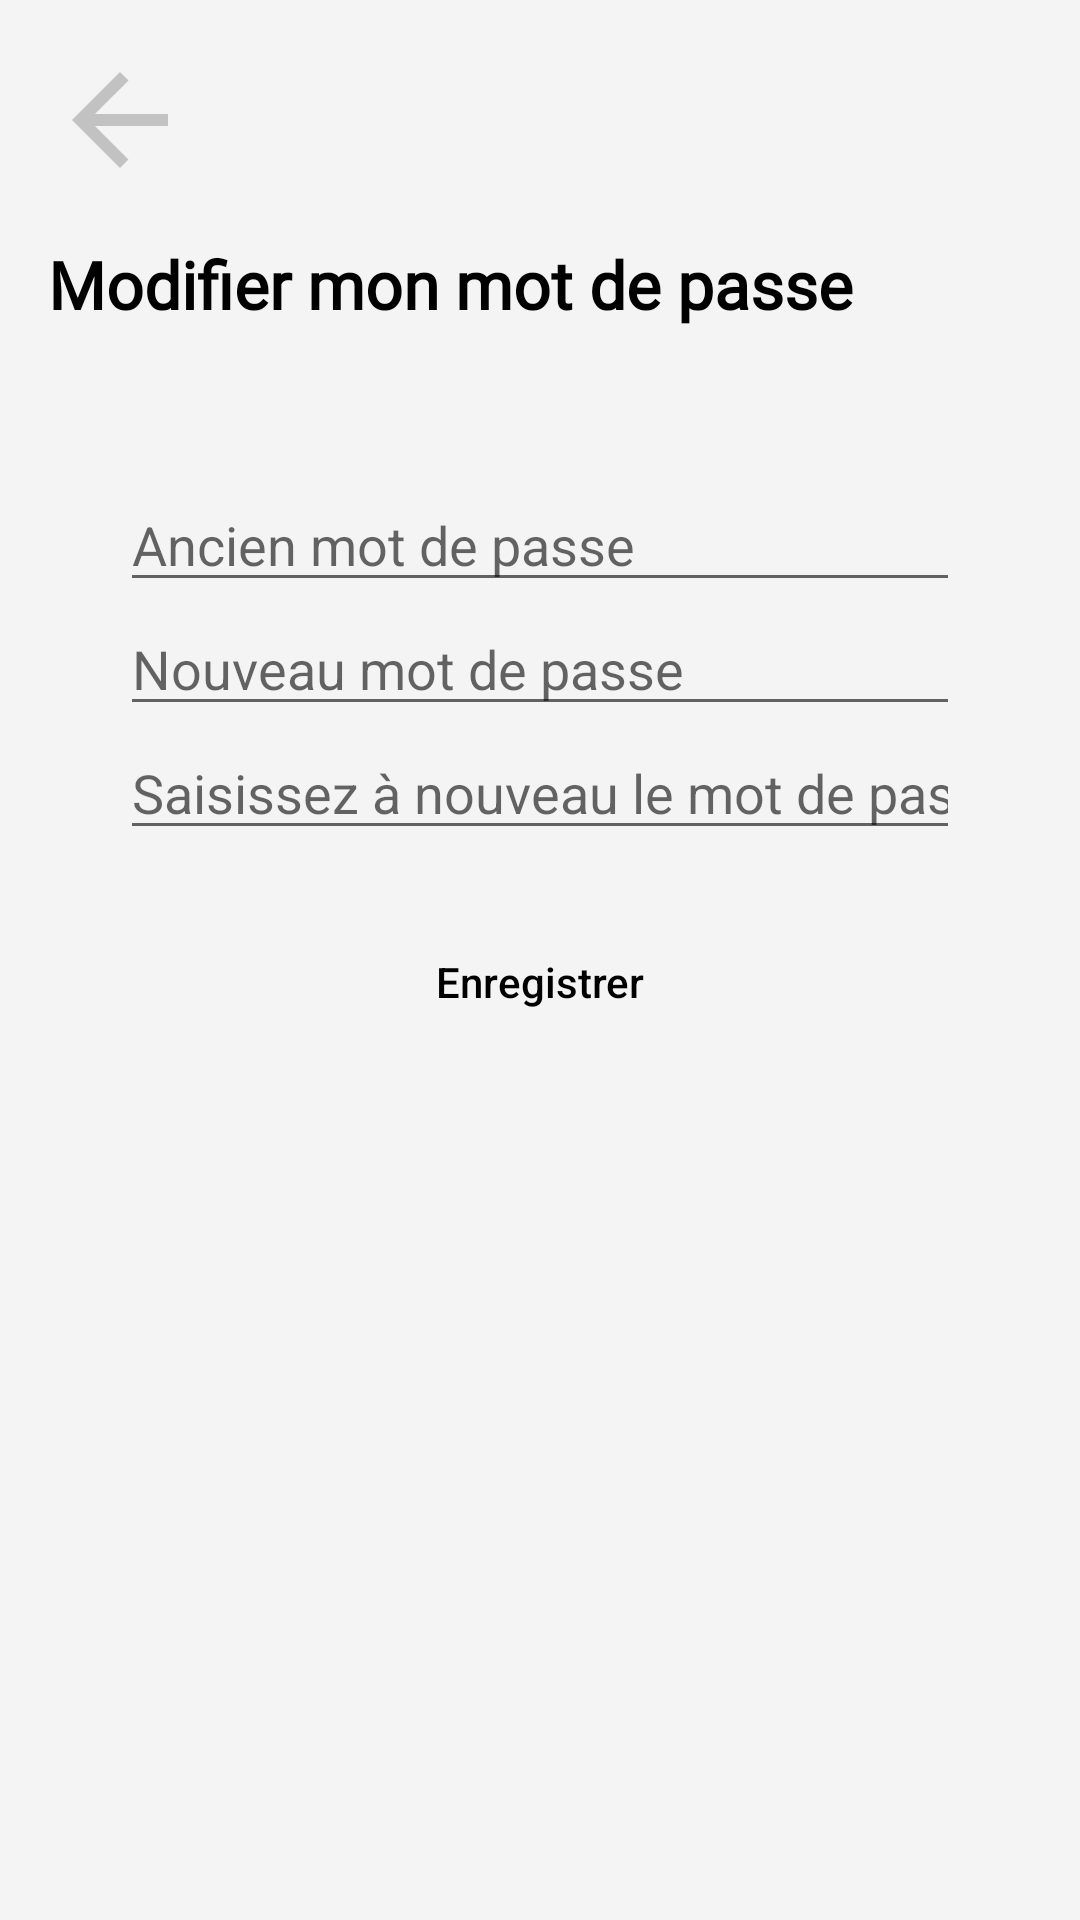

Screen size 1080×1920. Icon name, then its box in pixels as region(x1, y1, x2, y2):
arrow back: region(72, 72, 168, 168)
